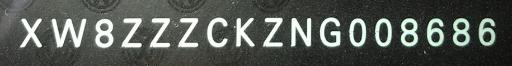letter: (48, 16, 90, 50), (14, 16, 50, 50), (288, 15, 316, 50), (116, 16, 144, 50), (258, 16, 286, 50), (316, 16, 344, 50), (90, 16, 118, 50), (203, 16, 231, 49), (146, 15, 172, 49), (231, 16, 257, 49), (476, 15, 502, 47), (174, 15, 198, 49), (449, 16, 473, 48), (346, 16, 370, 48), (423, 17, 447, 47), (399, 17, 419, 49), (374, 16, 394, 46)
